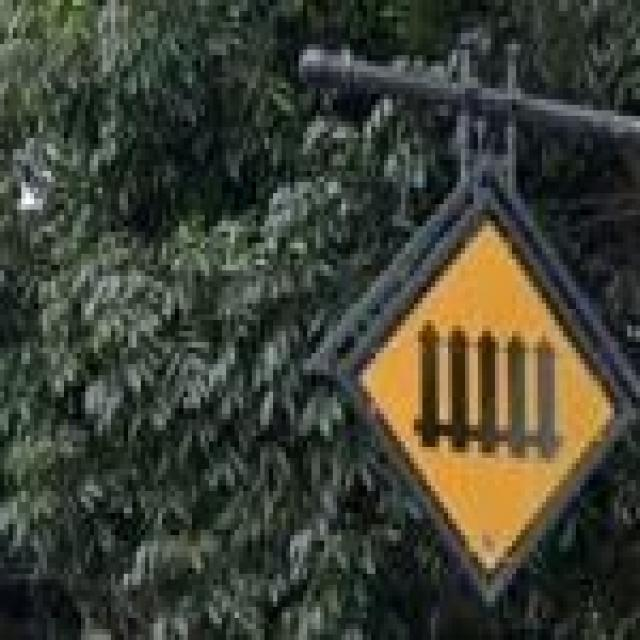traffic sign: (363, 215, 619, 579)
